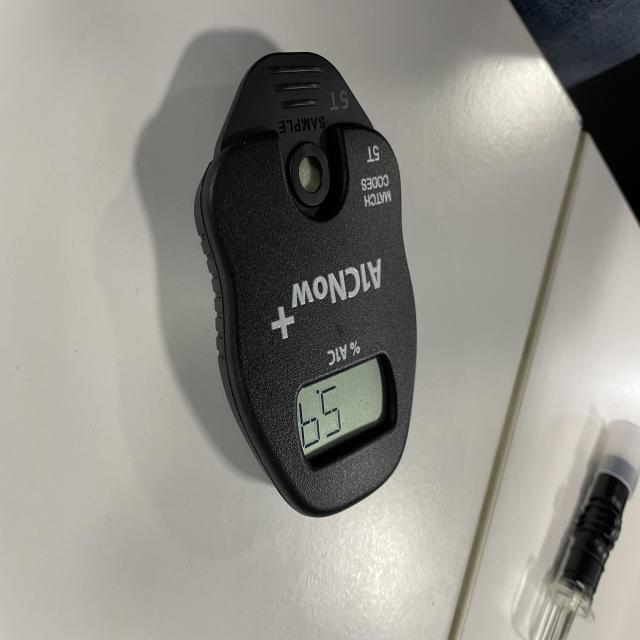hba1c: (193, 52, 418, 520)
